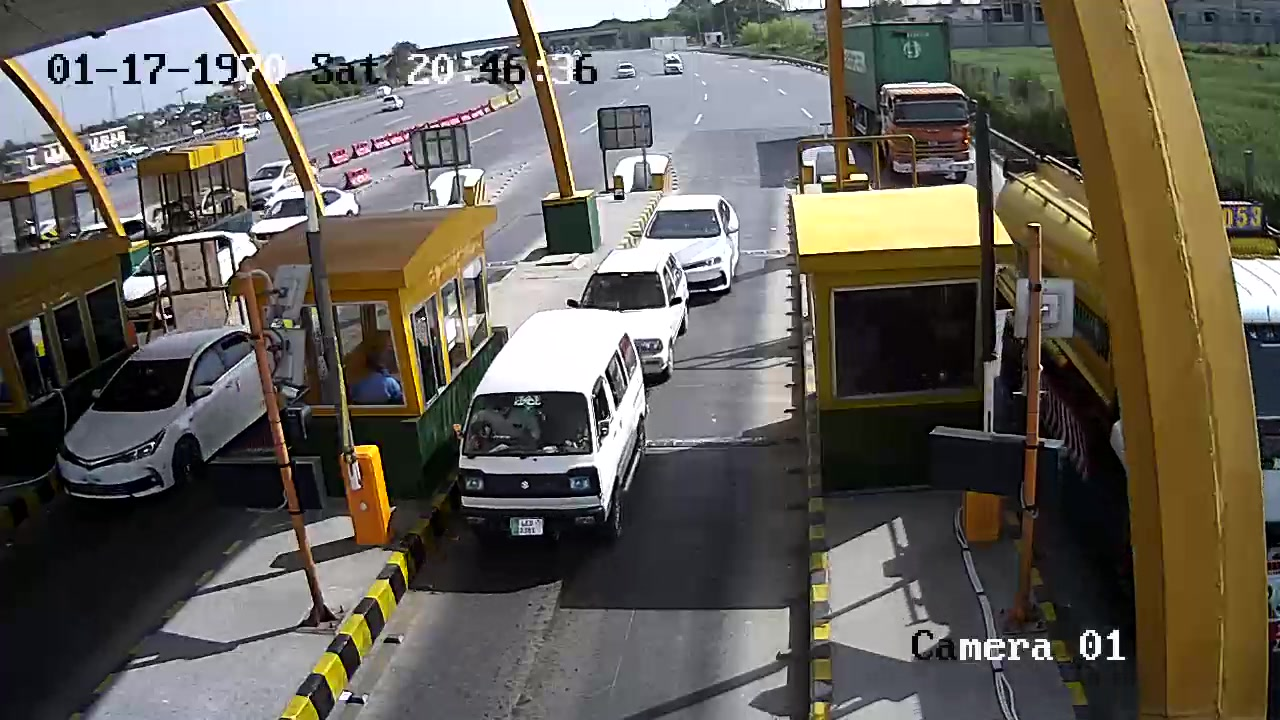F1: (456, 309, 643, 546)
